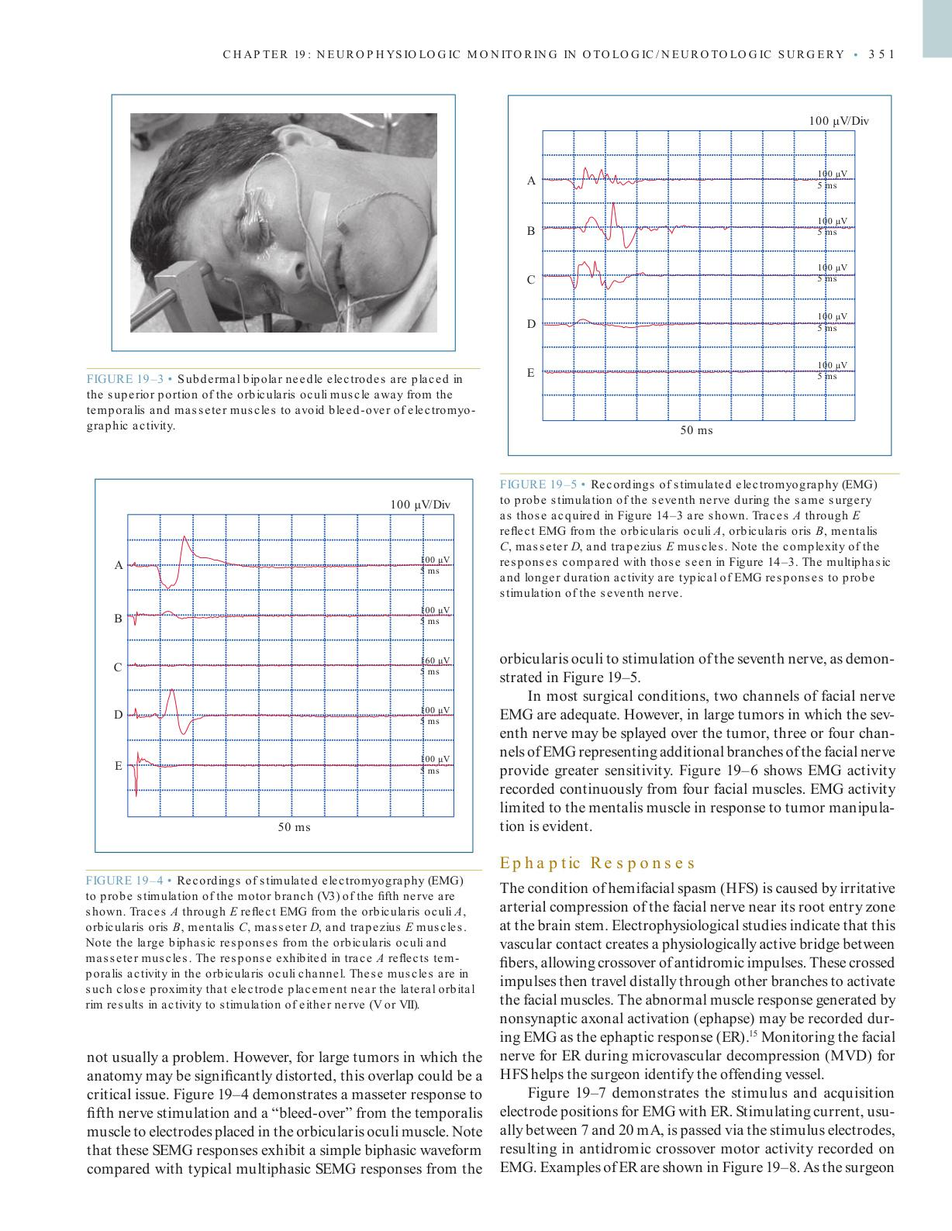caption: (84, 872, 478, 1014), (498, 476, 892, 599), (85, 371, 477, 433)
header: (221, 47, 845, 60)
image: (99, 483, 469, 847), (512, 99, 888, 452), (117, 99, 451, 346)
section-heading: (498, 854, 697, 875)
text: (496, 879, 897, 1178), (498, 650, 896, 833), (83, 1049, 486, 1180)
